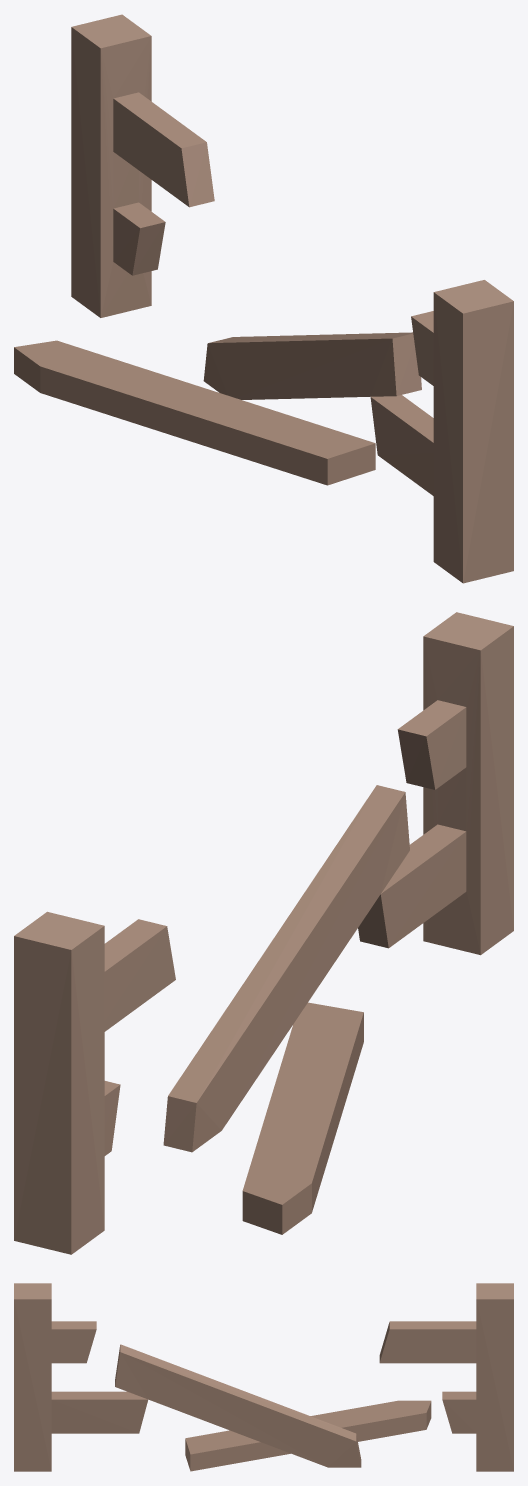
The model's file is kenney_fence-broken.fbx.
3 renders of one model, top to bottom at view 1: azimuth 30°, elevation 25°; view 2: azimuth 150°, elevation 25°; view 3: azimuth 270°, elevation 25°, orthographic. The views are drawn at different scales.
Parts seen in each view (by area): view 1: fence-broken; view 2: fence-broken; view 3: fence-broken.
Boxes of the visible parts, x1,y1,x2,y2 form: fence-broken: (14,14,513,583); fence-broken: (14,612,513,1254); fence-broken: (14,1283,513,1471).
Size of the model in its own units: 25.47 by 38 by 100.
